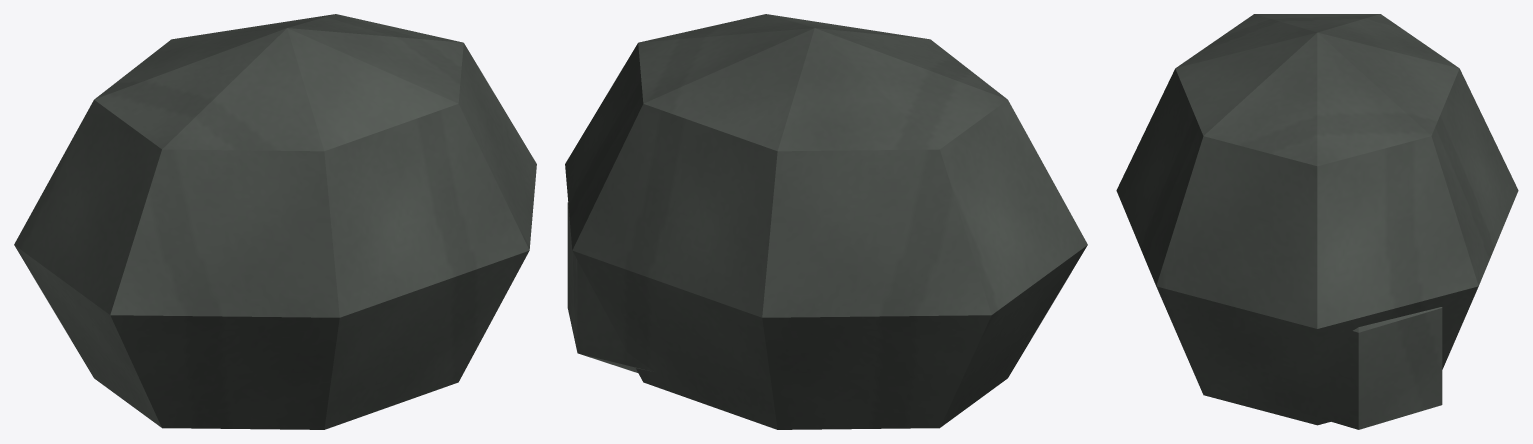
File: Rock_Small.glb
3 renders of one model, left to right at view 1: azimuth 30°, elevation 25°; view 2: azimuth 150°, elevation 25°; view 3: azimuth 270°, elevation 25°, orthographic. The views are drawn at different scales.
Visible parts, largest first — view 1: Rock_Small; view 2: Rock_Small; view 3: Rock_Small.
Part boxes in pixels (x1,y1,x2,y2): Rock_Small: [14, 14, 536, 429]; Rock_Small: [565, 14, 1087, 429]; Rock_Small: [1116, 14, 1518, 429].
Size of the model in its own units: 0.4943 by 0.392 by 0.39.
Materials: 1 (1 with a texture image).
